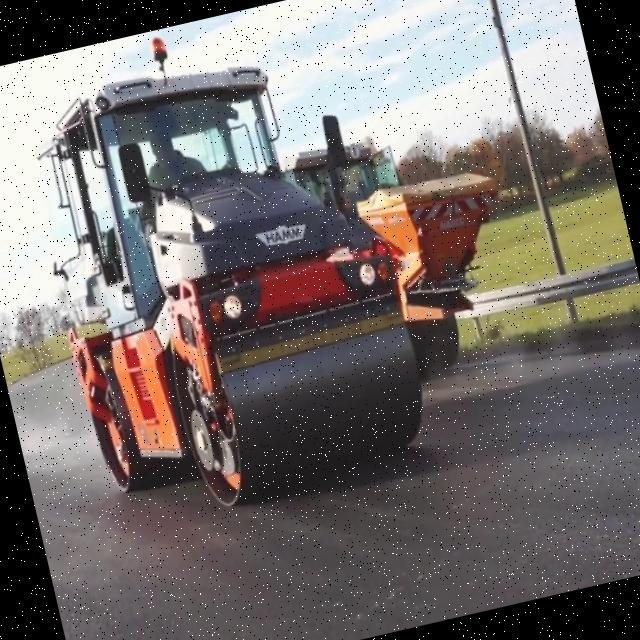Roller: (11, 22, 438, 526)
